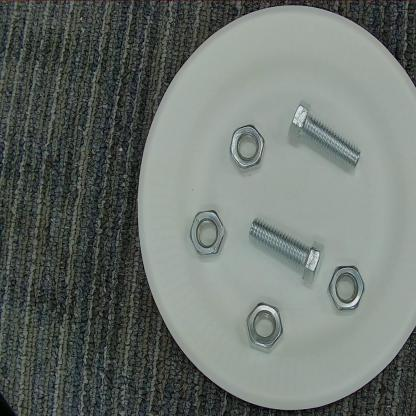FOD: (287, 95, 366, 178), (248, 211, 325, 290), (324, 261, 368, 316), (226, 120, 267, 178), (243, 300, 285, 356), (189, 208, 228, 258)
